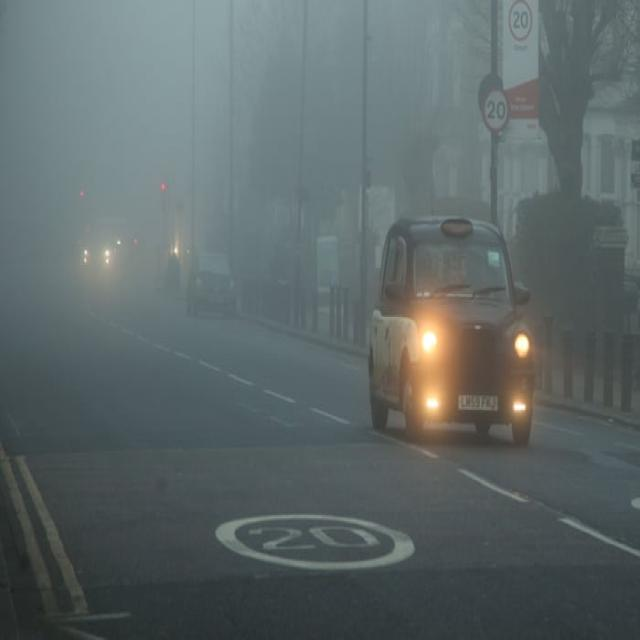car: (366, 214, 538, 446), (186, 252, 237, 316), (80, 224, 114, 274)
